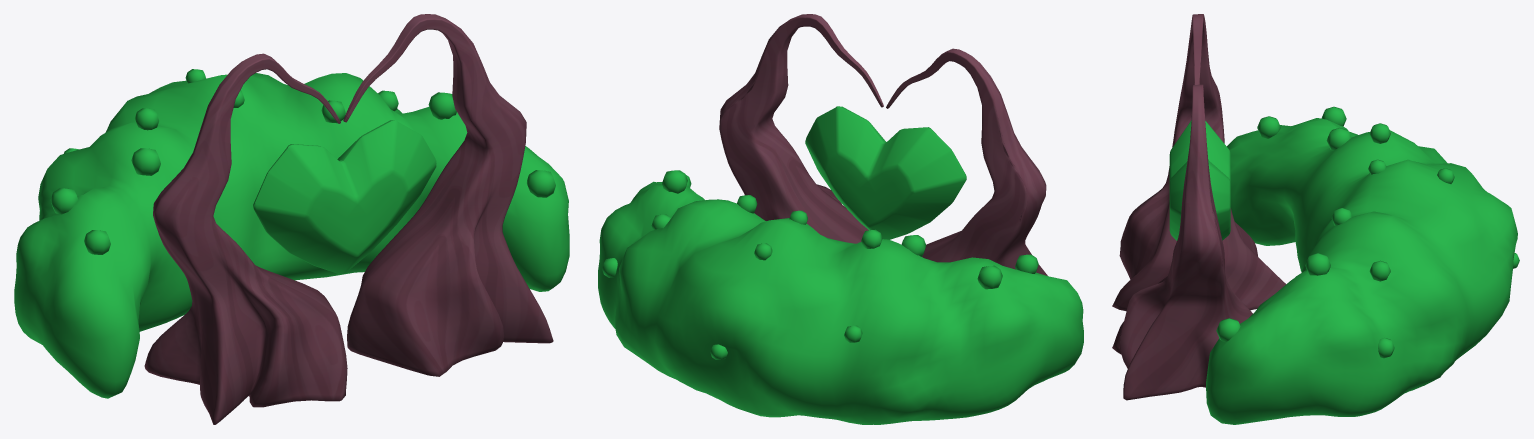
File: CorazónBosque.fbx
3 renders of one model, left to right at view 1: azimuth 30°, elevation 25°; view 2: azimuth 150°, elevation 25°; view 3: azimuth 270°, elevation 25°, orthographic. The views are drawn at different scales.
Visible parts, largest first — view 1: Troncos, Arbusto, Heart, Flor, Flor.007, Flor.004, Flor.010, Flor.011; view 2: Arbusto, Troncos, Heart, Flor.004, Flor.010; view 3: Arbusto, Troncos, Heart, Flor.004, Flor.007, Flor.011, Flor.
Boxes of the visible parts, x1,y1,x2,y2 form: Troncos: (144,14,553,424); Arbusto: (14,73,569,398); Heart: (253,120,436,274); Flor: (131,148,160,175); Flor.007: (527,170,555,197); Flor.004: (428,92,456,119); Flor.010: (50,188,78,214); Flor.011: (84,230,110,254); Arbusto: (598,181,1083,424); Troncos: (719,14,1047,275); Heart: (805,106,966,239); Flor.004: (662,170,687,193); Flor.010: (977,265,1002,289); Arbusto: (1206,118,1517,424); Troncos: (1112,14,1286,400); Heart: (1169,120,1230,240); Flor.004: (1305,253,1330,275); Flor.007: (1216,318,1240,342); Flor.011: (1257,116,1280,138); Flor: (1326,128,1351,150).
Size of the model in its own units: 1964 by 1226 by 1556.
